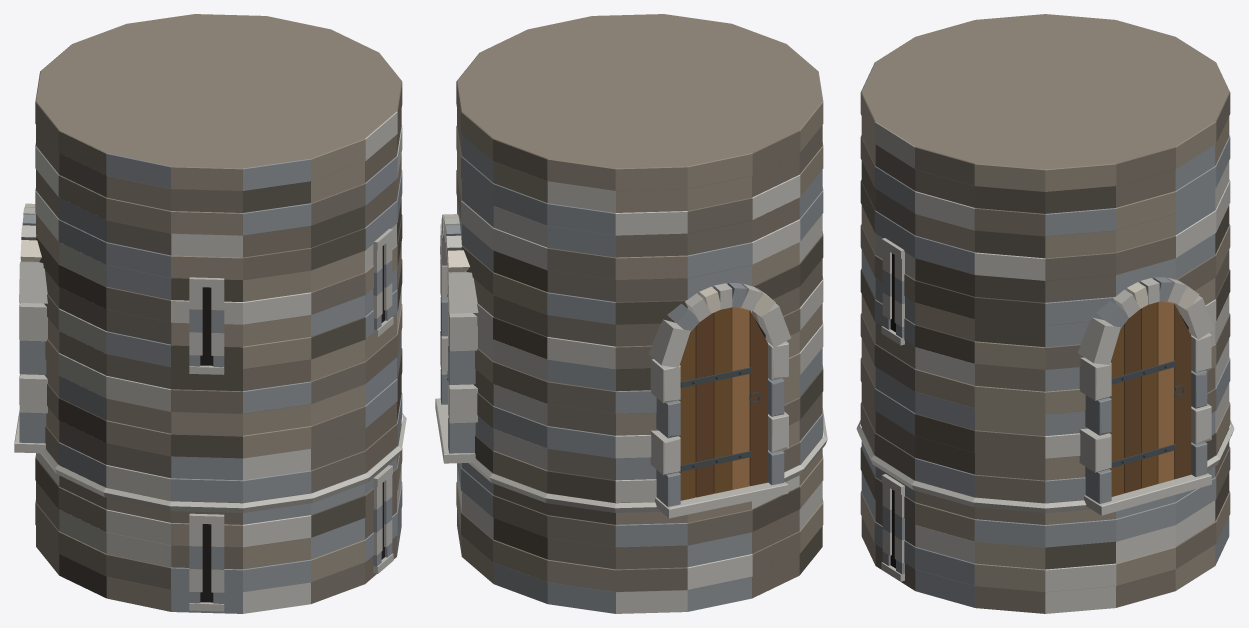
File: mdvl_castle_tower_round_door_01.glb
The picture shows the model from 3 angles, left to right: view 1: azimuth 30°, elevation 25°; view 2: azimuth 150°, elevation 25°; view 3: azimuth 270°, elevation 25°; orthographic projection.
Visible parts, largest first — view 1: mdvl_castle_tower_round_door_01; view 2: mdvl_castle_tower_round_door_01; view 3: mdvl_castle_tower_round_door_01.
Boxes of the visible parts, box(x1,y1,x2,y2) form: mdvl_castle_tower_round_door_01: box(14, 14, 406, 613); mdvl_castle_tower_round_door_01: box(435, 14, 827, 613); mdvl_castle_tower_round_door_01: box(856, 14, 1234, 613).
Bounding box in the file's own units: 3.98 × 4.8 × 3.7.
1 material, 1 textured.
